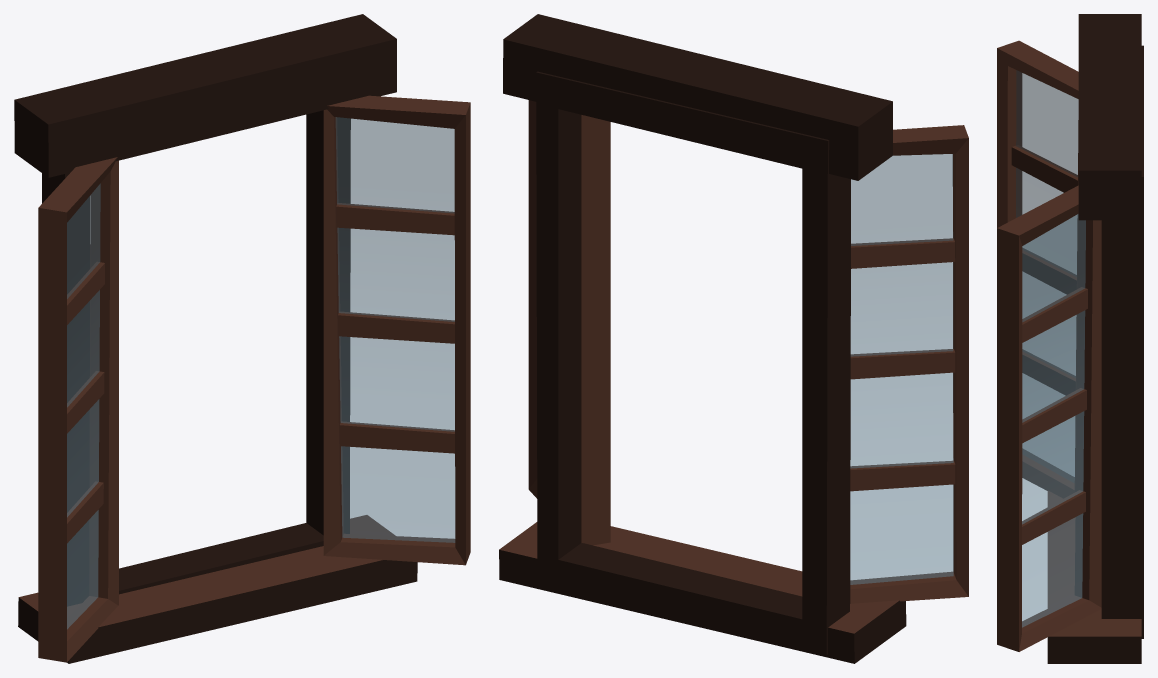
File: Window 2x4 V2 Open.glb
3 views of the same model, side by side, from view 1: azimuth 30°, elevation 25°; view 2: azimuth 150°, elevation 25°; view 3: azimuth 270°, elevation 25° (orthographic). The views are drawn at different scales.
Parts seen in each view (by area): view 1: Window 2x4 V2 Open; view 2: Window 2x4 V2 Open; view 3: Window 2x4 V2 Open.
Boxes of the visible parts, x1=… form: Window 2x4 V2 Open: x1=14, y1=14, x2=470, y2=663; Window 2x4 V2 Open: x1=499, y1=14, x2=968, y2=663; Window 2x4 V2 Open: x1=997, y1=14, x2=1143, y2=663.
Size of the model in its own units: 1.74 by 2.05 by 0.5538.
2 materials, 2 textured.
